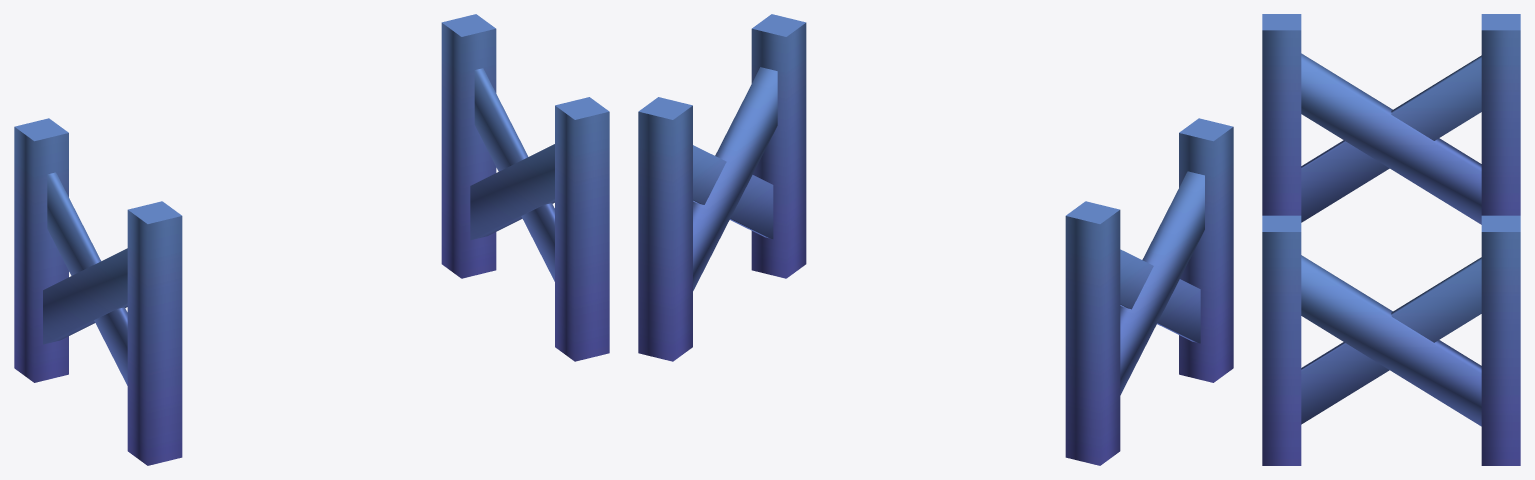
The model's file is kenney-toy-car-supports-wide-diagonal.glb.
The picture shows the model from 3 angles, left to right: view 1: azimuth 30°, elevation 25°; view 2: azimuth 150°, elevation 25°; view 3: azimuth 270°, elevation 25°; orthographic projection. The views are drawn at different scales.
Parts seen in each view (by area): view 1: supports-wide-diagonal; view 2: supports-wide-diagonal; view 3: supports-wide-diagonal.
Boxes of the visible parts, bbox=[...] form: supports-wide-diagonal: bbox=[14, 14, 609, 465]; supports-wide-diagonal: bbox=[638, 14, 1233, 465]; supports-wide-diagonal: bbox=[1262, 14, 1520, 465].
Bounding box in the file's own units: 2 × 1 × 1.
Materials: 1 (1 with a texture image).
